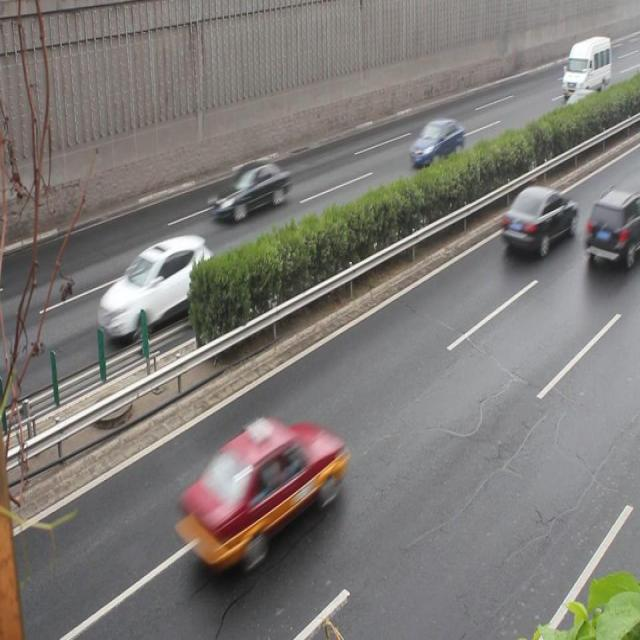car: (178, 418, 344, 566), (97, 235, 214, 339), (499, 184, 576, 254), (209, 161, 289, 222), (582, 184, 640, 267), (409, 118, 463, 168), (554, 90, 599, 138)
